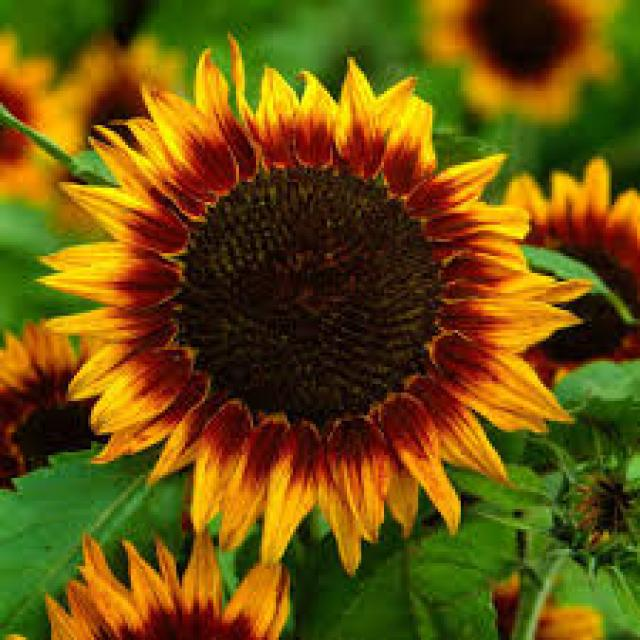sunflower: (19, 28, 612, 574), (474, 145, 640, 430), (39, 11, 237, 231), (0, 514, 313, 640), (0, 295, 160, 526), (414, 0, 640, 140), (421, 554, 640, 640), (0, 17, 57, 242)
